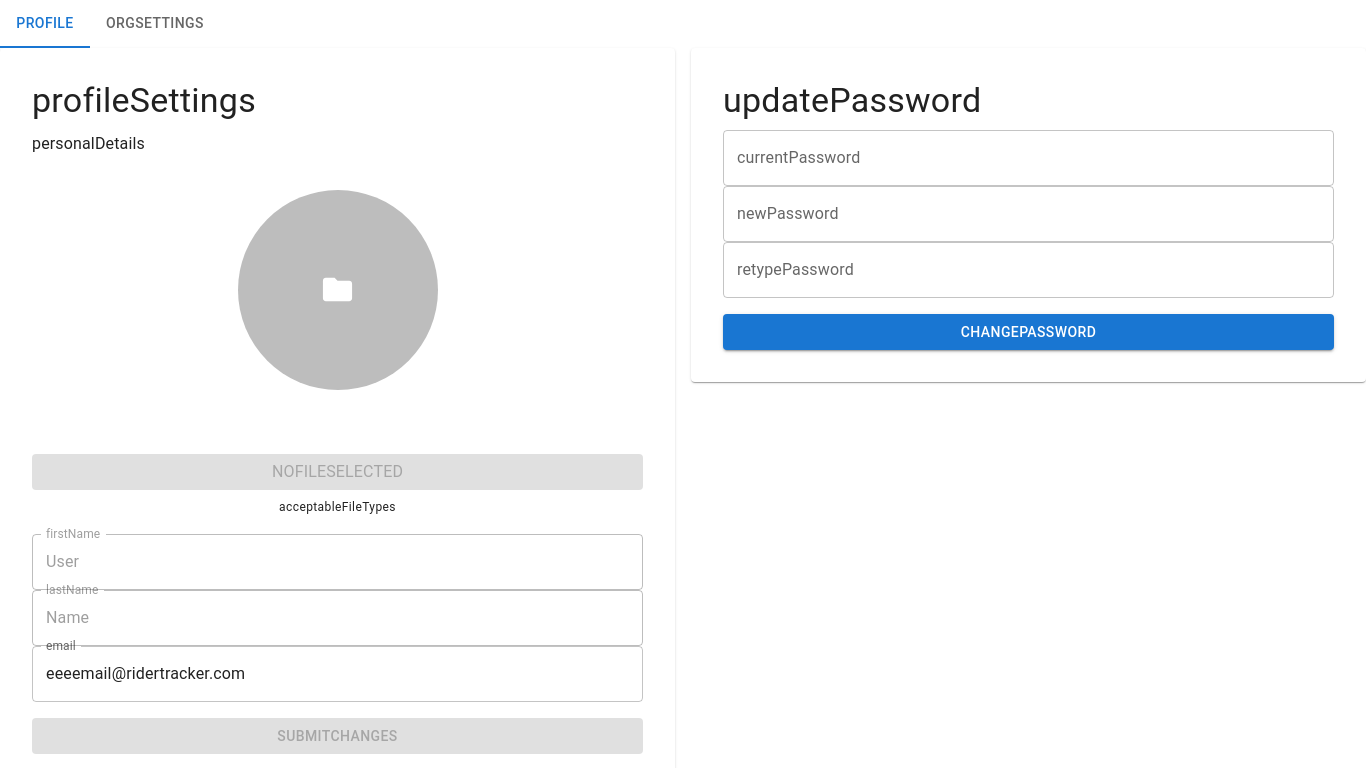
Test: Settings Tests › shows add org admin dialog
This screenshot has width=1366, height=768.
Expected: the heading "profileSettings" is shown, [32,80,256,120]
Click the tab "orgSettings".
click(155, 24)  # box [90,0,220,48]
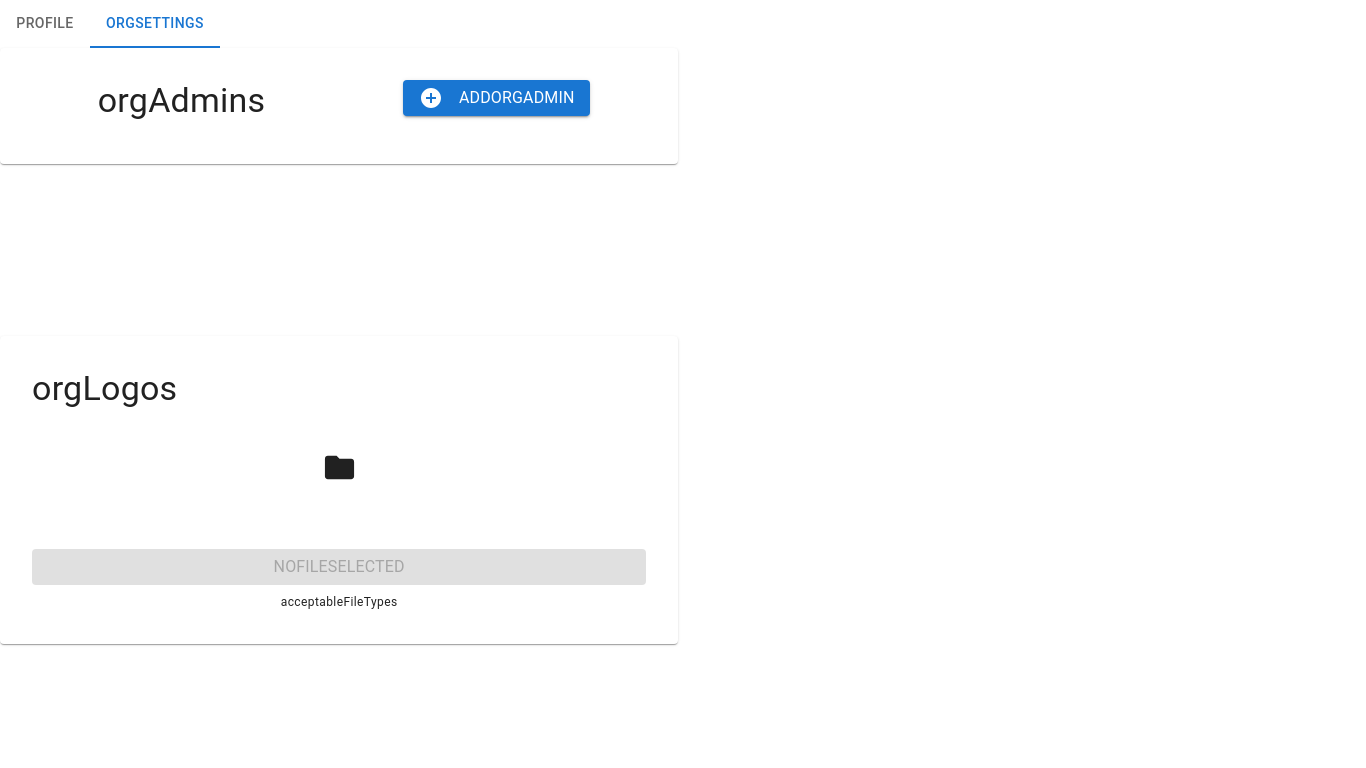
Now the heading "orgAdmins" is shown, box [98,80,265,120]
Click the button "addOrgAdmin".
click(497, 98)  # box [403,80,590,116]
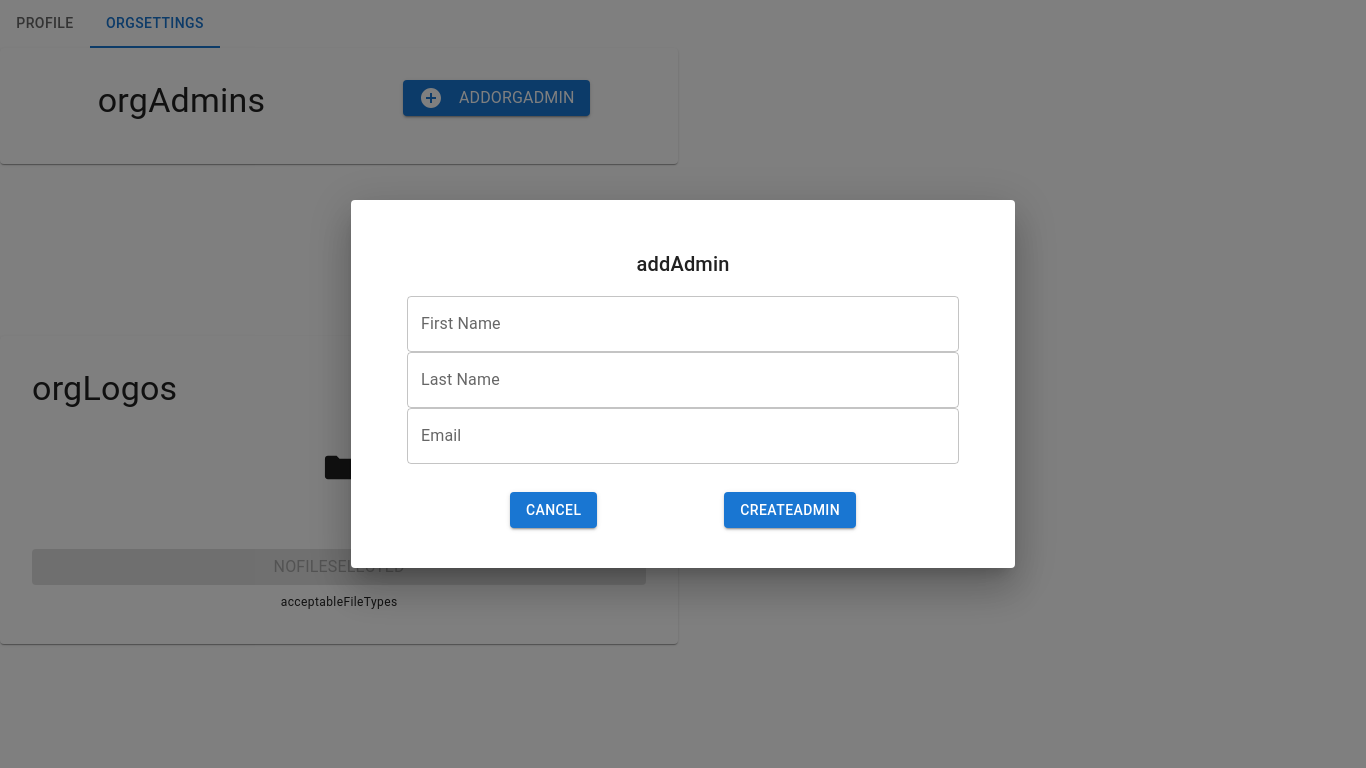
Now the button "cancel" is shown, box [510,492,597,528]
